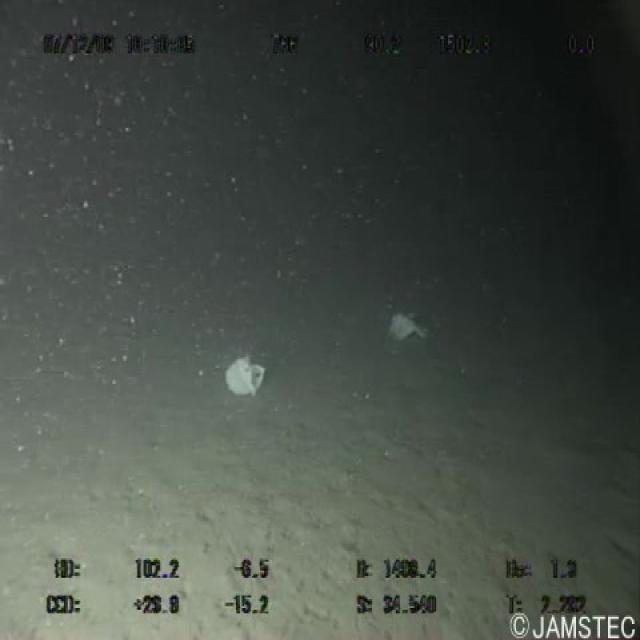plastic: (219, 345, 272, 396), (380, 301, 437, 348)
